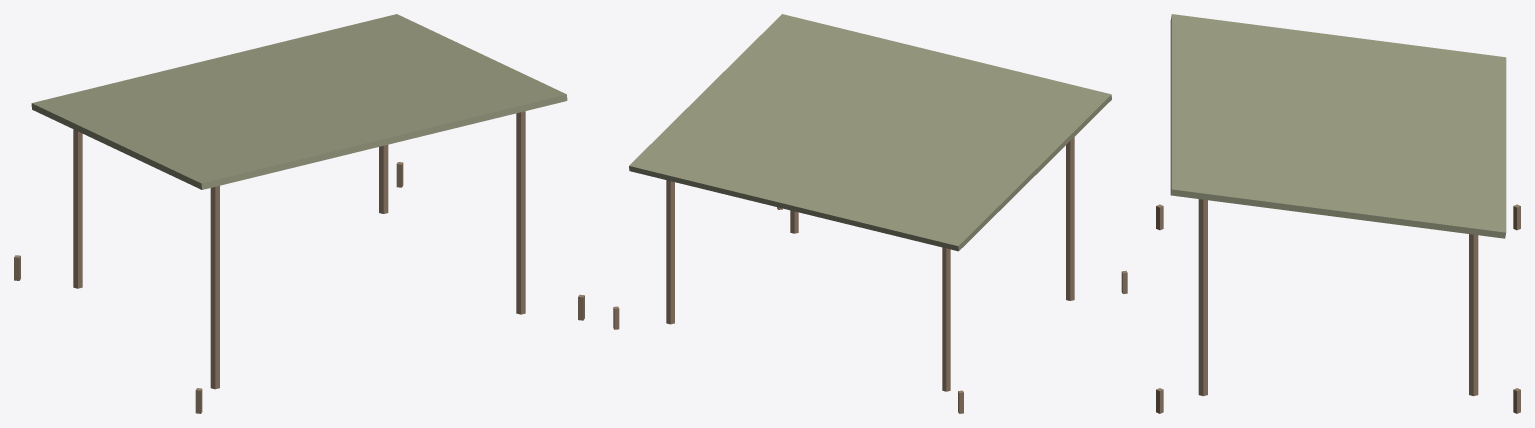
File: camp_tarp.glb
3 views of the same model, side by side, from view 1: azimuth 30°, elevation 25°; view 2: azimuth 150°, elevation 25°; view 3: azimuth 270°, elevation 25° (orthographic). The views are drawn at different scales.
Parts seen in each view (by area): view 1: tarp_panel, pole_00, pole_01, pole_02, pole_03; view 2: tarp_panel, pole_00, pole_02, pole_03; view 3: tarp_panel, pole_01, pole_03.
Boxes of the visible parts, <box> form: tarp_panel: <box>31,14,567,189</box>; pole_00: <box>210,185,219,389</box>; pole_01: <box>516,111,525,314</box>; pole_02: <box>73,129,82,288</box>; pole_03: <box>379,145,388,213</box>; tarp_panel: <box>629,14,1111,251</box>; pole_00: <box>1066,137,1074,300</box>; pole_02: <box>942,247,950,391</box>; pole_03: <box>666,180,674,324</box>; tarp_panel: <box>1170,14,1506,238</box>; pole_01: <box>1198,199,1207,396</box>; pole_03: <box>1469,234,1478,396</box>.
Bounding box in the file's own units: 4.58 × 2.5 × 3.78.
